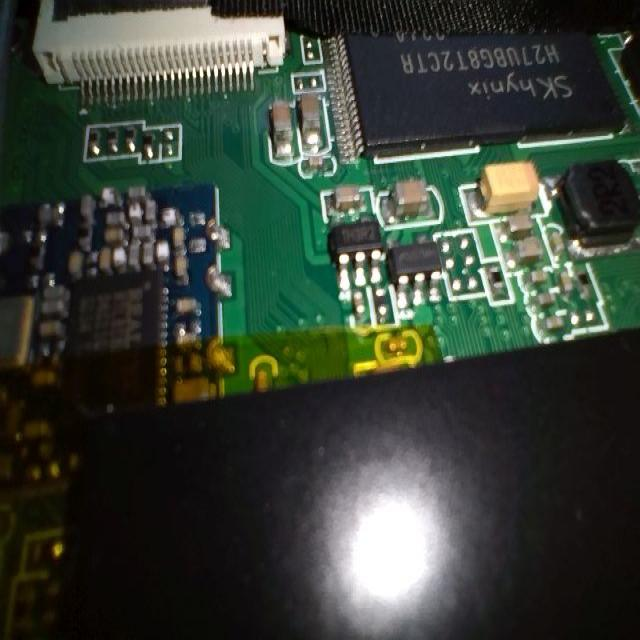capacitor: (390, 172, 444, 225), (297, 91, 333, 155), (319, 184, 372, 223), (266, 100, 296, 155), (40, 312, 69, 344), (349, 292, 371, 332), (505, 212, 535, 240), (515, 239, 545, 264), (26, 414, 50, 441), (30, 366, 63, 385), (528, 266, 551, 289), (172, 332, 205, 348), (105, 223, 128, 245), (174, 254, 191, 278), (534, 292, 557, 308), (98, 248, 111, 274), (544, 314, 559, 336), (67, 254, 82, 276), (173, 226, 186, 250), (178, 295, 198, 309)
resistor: (482, 262, 510, 296), (140, 131, 162, 164), (104, 122, 125, 156), (86, 122, 103, 159), (125, 118, 136, 152)
